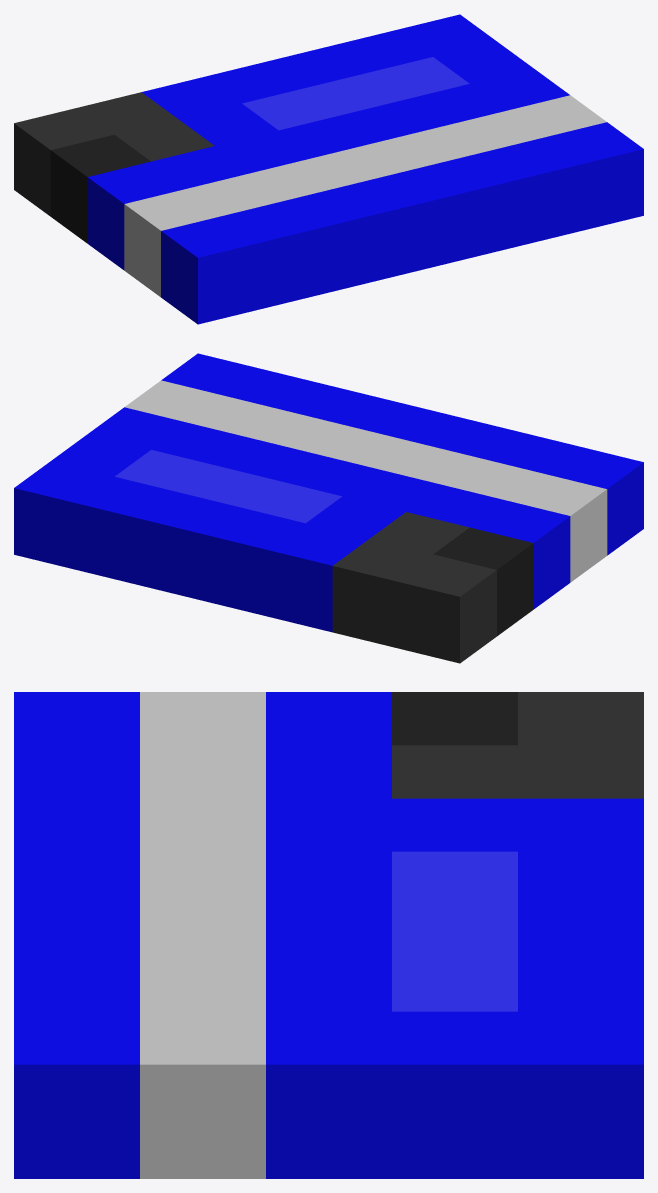
The model's file is Keycard.obj.
The picture shows the model from 3 angles, top to bottom: view 1: azimuth 30°, elevation 25°; view 2: azimuth 150°, elevation 25°; view 3: azimuth 270°, elevation 25°; orthographic projection. The views are drawn at different scales.
Bounding box in the file's own units: 0.7 × 0.1 × 0.5.
